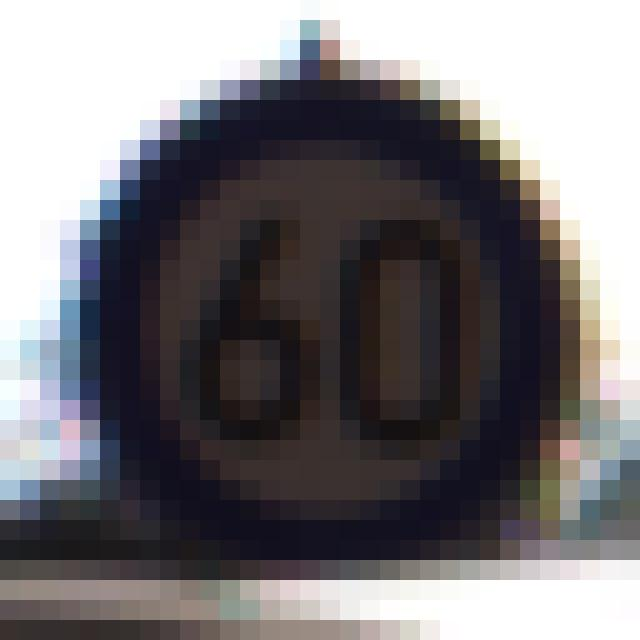SPEED-LIMIT-60: (56, 66, 590, 587)
